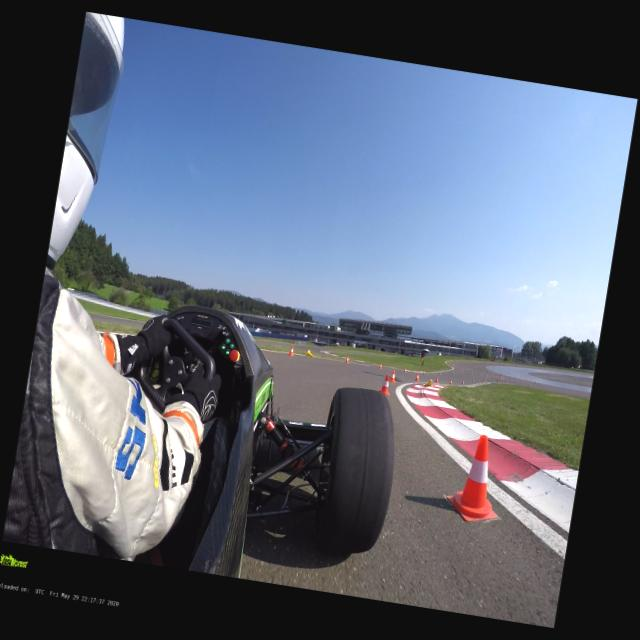orange_cone: (444, 432, 510, 524), (380, 374, 392, 394), (389, 370, 396, 383), (288, 346, 294, 356), (414, 373, 420, 381), (345, 356, 349, 363), (403, 367, 407, 372), (435, 377, 439, 382), (379, 363, 382, 369), (449, 379, 452, 384), (461, 380, 464, 384), (472, 378, 474, 382), (483, 379, 485, 381), (423, 372, 425, 374), (492, 375, 494, 377)
yellow_cone: (306, 350, 314, 358)
